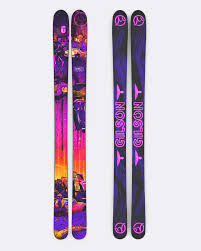skis: (109, 9, 148, 240), (51, 9, 89, 239)
